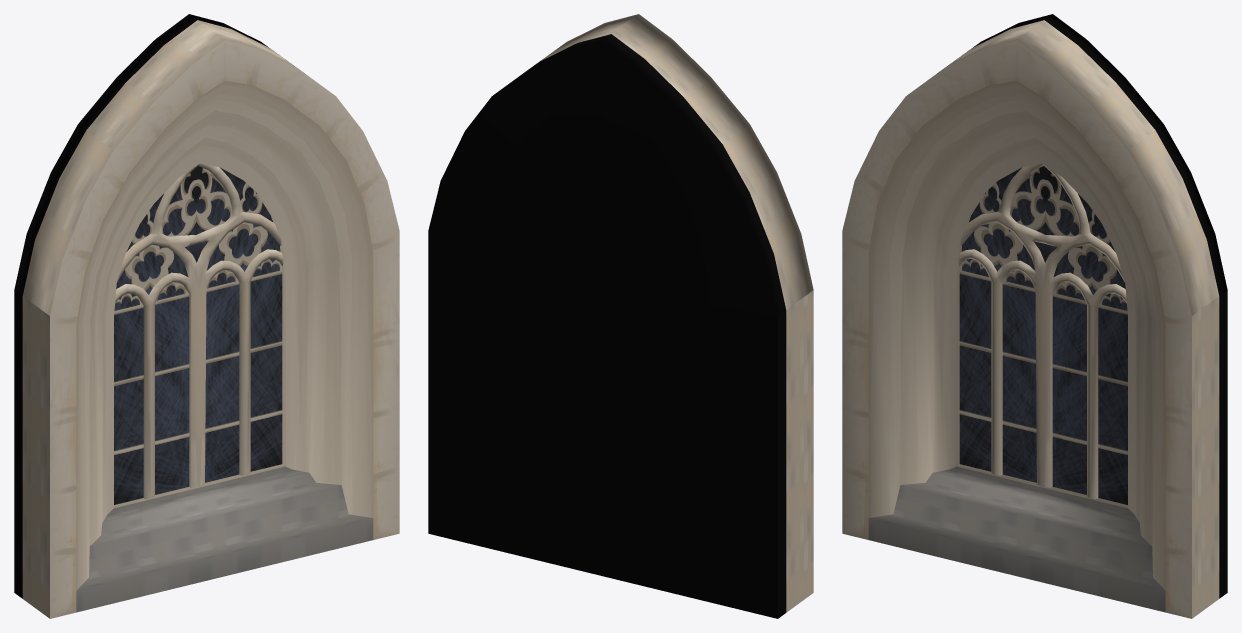
Rendered from JanelaGotica.fbx.
The picture shows the model from 3 angles, left to right: view 1: azimuth 30°, elevation 25°; view 2: azimuth 150°, elevation 25°; view 3: azimuth 330°, elevation 25°; orthographic projection.
Parts seen in each view (by area): view 1: Cube.001; view 2: Cube.001; view 3: Cube.001.
Part boxes in pixels (x1,y1,x2,y2): Cube.001: [14, 14, 399, 618]; Cube.001: [428, 14, 813, 618]; Cube.001: [842, 14, 1227, 618].
Size of the model in its own units: 778 by 1140 by 138.
